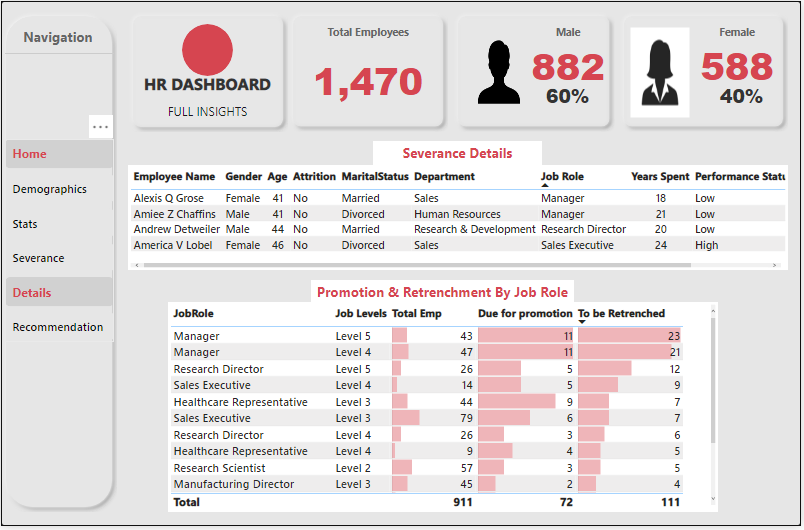

This screenshot's page, from the dashboard's own definition file:
{"tool":"powerbi","page":{"name":"Details","canvas":[1600,1050],"ordinal":4},"visuals":[{"type":"shape","box":[253.3,20,320,241.7],"z":0},{"type":"shape","box":[573.9,20,320,241.1],"z":1000},{"type":"shape","box":[903.7,20,323.2,241.1],"z":2000},{"type":"shape","box":[1236.1,20,337.8,241.1],"z":3000},{"type":"textbox","box":[260,138,306,78],"z":4000},{"type":"textbox","box":[260,198,306,78],"z":5000},{"type":"shape","box":[362,46,102,104],"z":6000},{"type":"card","title":"Total Employees","fields":{"Values":["All Measures.Total Emp"]},"box":[584,46,300,192],"z":7000},{"type":"card","title":"Male","fields":{"Values":["All Measures.Males"]},"box":[1054.3,45.7,160,131.4],"z":8000},{"type":"card","title":"Male","fields":{"Values":["All Measures.% Males"]},"box":[1064,146,138,86],"z":9000},{"type":"card","title":"Female","fields":{"Values":["All Measures.Females"]},"box":[1382,46,180,132],"z":10000},{"type":"card","title":"Male","fields":{"Values":["All Measures.% Females"]},"box":[1412,146,138,86],"z":11000},{"type":"tableEx","fields":{"Values":["Serverance Benefit.Severance Benefit ","HR Analytics Data.Gender","Sum(HR Analytics Data.Age)","HR Analytics Data.Attrition","HR Analytics Data.MaritalStatus","HR Analytics Data.Department","HR Analytics Data.JobRole","HR Analytics Data.YearsAtCompany","HR Analytics Data.Performance Status","HR Analytics Data.BusinessTravel"]},"box":[254,328,1320,210],"z":14000},{"type":"tableEx","fields":{"Values":["HR Analytics Data.JobRole","HR Analytics Data.Job Levels","All Measures.Total Emp","All Measures.Due for promotion","All Measures.To be Retrenched"]},"box":[334,602,1100,420],"z":15000},{"type":"textbox","box":[744,280,338,50],"z":16000},{"type":"textbox","box":[620,558,526,48],"z":17000},{"type":"shape","box":[0,20,232,1002],"z":18000},{"type":"textbox","box":[22,48,184,50],"z":19000},{"type":"shape","box":[8,98,218,14],"z":20000},{"type":"pageNavigator","title":"Page navigator","box":[8,276,218,406],"z":21000},{"type":"image","box":[938,58,116,168],"z":21001},{"type":"image","box":[1254,48,128,190],"z":21002}]}

Visuals, with their boxes in screenshot pixels (x1, y1, x2, y2), scaled from the page's 1600x1050 canvas onto the 804x530 screenshot:
shape: <box>127,10,288,132</box>
shape: <box>288,10,449,132</box>
shape: <box>454,10,617,132</box>
shape: <box>621,10,791,132</box>
textbox: <box>131,70,284,109</box>
textbox: <box>131,100,284,139</box>
shape: <box>182,23,233,76</box>
"Total Employees" card: <box>293,23,444,120</box>
"Male" card: <box>530,23,610,89</box>
"Male" card: <box>535,74,604,117</box>
"Female" card: <box>694,23,785,90</box>
"Male" card: <box>710,74,779,117</box>
tableEx - Serverance Benefit.Severance Benefit  x HR Analytics Data.Gender: <box>128,166,791,272</box>
tableEx - HR Analytics Data.JobRole x HR Analytics Data.Job Levels: <box>168,304,721,516</box>
textbox: <box>374,141,544,167</box>
textbox: <box>312,282,576,306</box>
shape: <box>0,10,117,516</box>
textbox: <box>11,24,104,49</box>
shape: <box>4,49,114,57</box>
"Page navigator" pageNavigator: <box>4,139,114,344</box>
image: <box>471,29,530,114</box>
image: <box>630,24,694,120</box>
